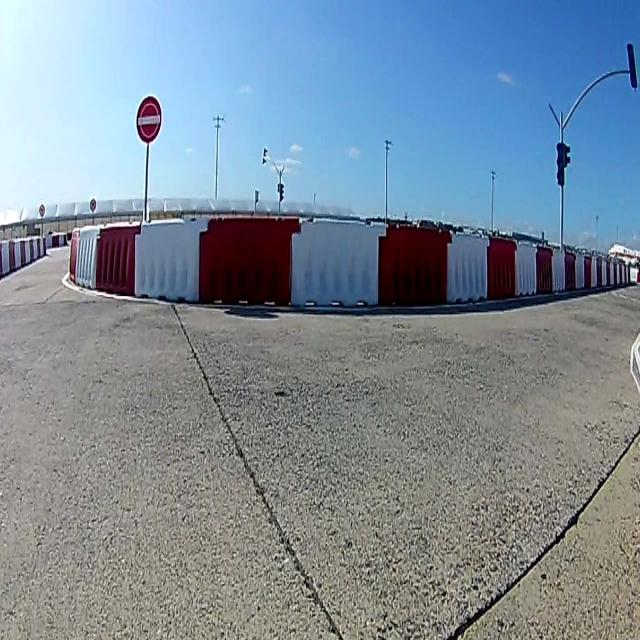girisyok: (136, 95, 161, 144)
